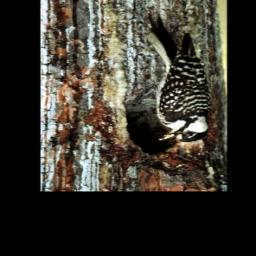Woodpecker: (144, 14, 210, 144)
